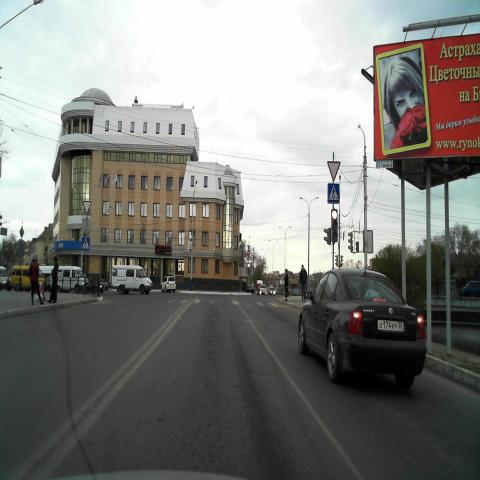2_4: (82, 200, 92, 214)
